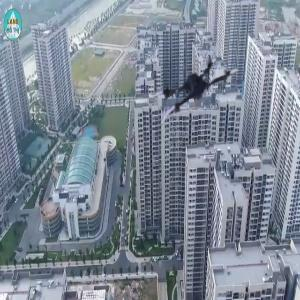drone: (151, 50, 246, 145)
